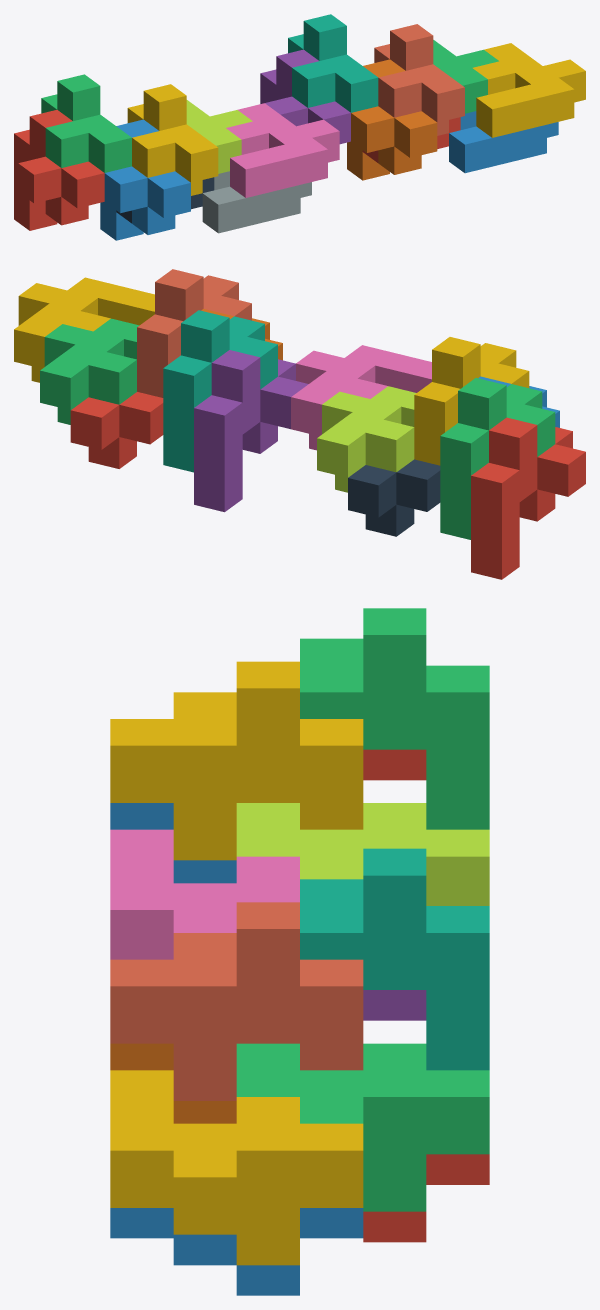
The model's file is tiling.obj.
The picture shows the model from 3 angles, top to bottom: view 1: azimuth 30°, elevation 25°; view 2: azimuth 150°, elevation 25°; view 3: azimuth 270°, elevation 25°; orthographic projection. The views are drawn at different scales.
Parts seen in each view (by area): view 1: copy_2_domain_8, copy_2_domain_4, copy_1_domain_1, copy_1_domain_4, copy_1_domain_8, copy_1_domain_3, copy_1_domain_7, copy_1_domain_2, copy_1_domain_6, copy_2_domain_2, copy_2_domain_6, copy_1_domain_5 (+4 smaller); view 2: copy_1_domain_1, copy_1_domain_5, copy_1_domain_3, copy_1_domain_7, copy_2_domain_3, copy_2_domain_7, copy_2_domain_8, copy_2_domain_4, copy_1_domain_4, copy_1_domain_8, copy_2_domain_5, copy_2_domain_1; view 3: copy_1_domain_8, copy_1_domain_4, copy_2_domain_8, copy_1_domain_3, copy_1_domain_7, copy_2_domain_7, copy_2_domain_3, copy_2_domain_4, copy_2_domain_6, copy_2_domain_5, copy_1_domain_6, copy_1_domain_2 (+2 smaller).
Boxes of the visible parts, <box> form: copy_2_domain_8: <box>473,43,585,137</box>; copy_2_domain_4: <box>226,103,339,197</box>; copy_1_domain_1: <box>14,110,104,230</box>; copy_1_domain_4: <box>127,84,218,195</box>; copy_1_domain_8: <box>374,24,464,135</box>; copy_1_domain_3: <box>41,74,131,172</box>; copy_1_domain_7: <box>288,14,378,112</box>; copy_1_domain_2: <box>100,119,190,240</box>; copy_1_domain_6: <box>347,59,437,180</box>; copy_2_domain_2: <box>202,171,311,233</box>; copy_2_domain_6: <box>449,111,558,173</box>; copy_1_domain_5: <box>260,49,350,144</box>; copy_1_domain_1: <box>471,417,585,579</box>; copy_1_domain_5: <box>194,350,308,512</box>; copy_1_domain_3: <box>440,378,555,539</box>; copy_1_domain_7: <box>163,310,277,472</box>; copy_2_domain_3: <box>317,386,416,492</box>; copy_2_domain_7: <box>40,318,139,424</box>; copy_2_domain_8: <box>14,277,154,382</box>; copy_2_domain_4: <box>291,345,431,450</box>; copy_1_domain_4: <box>414,337,529,465</box>; copy_1_domain_8: <box>137,269,251,397</box>; copy_2_domain_5: <box>70,392,163,468</box>; copy_2_domain_1: <box>348,459,440,536</box>; copy_1_domain_8: <box>110,902,363,1100</box>; copy_1_domain_4: <box>110,661,363,860</box>; copy_2_domain_8: <box>110,1070,363,1265</box>; copy_1_domain_3: <box>300,608,489,829</box>; copy_1_domain_7: <box>300,848,489,1070</box>; copy_2_domain_7: <box>236,1043,489,1211</box>; copy_2_domain_3: <box>236,803,489,905</box>; copy_2_domain_4: <box>110,829,299,959</box>; copy_2_domain_6: <box>110,1208,363,1295</box>; copy_2_domain_5: <box>363,1154,489,1242</box>; copy_1_domain_6: <box>110,1043,236,1123</box>; copy_1_domain_2: <box>110,803,236,883</box>.
Bounding box in the file's own units: 19 × 5 × 6.
